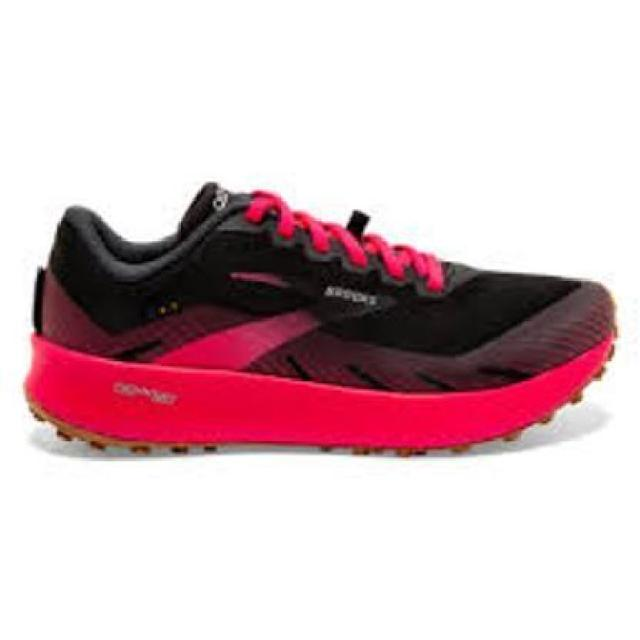not trash: (23, 174, 626, 468)
